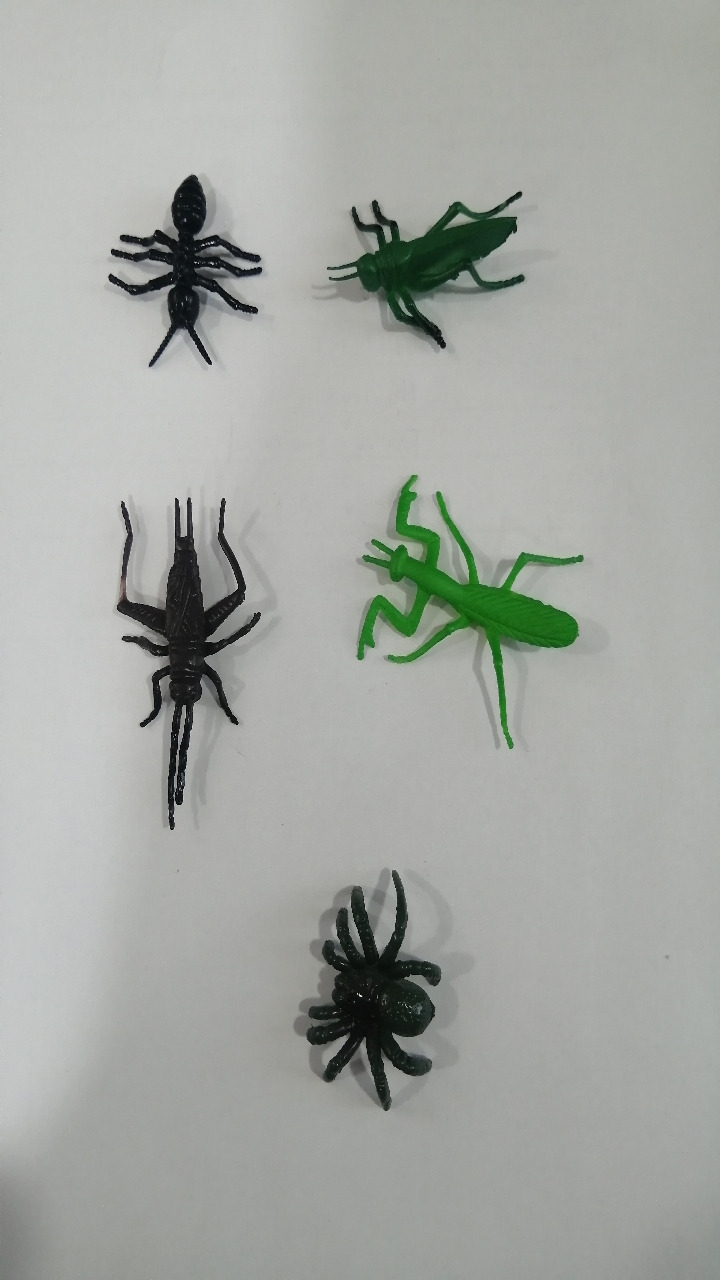intruso: (323, 423, 623, 775), (46, 448, 278, 863), (257, 834, 486, 1137), (311, 134, 548, 379), (74, 137, 283, 389)
